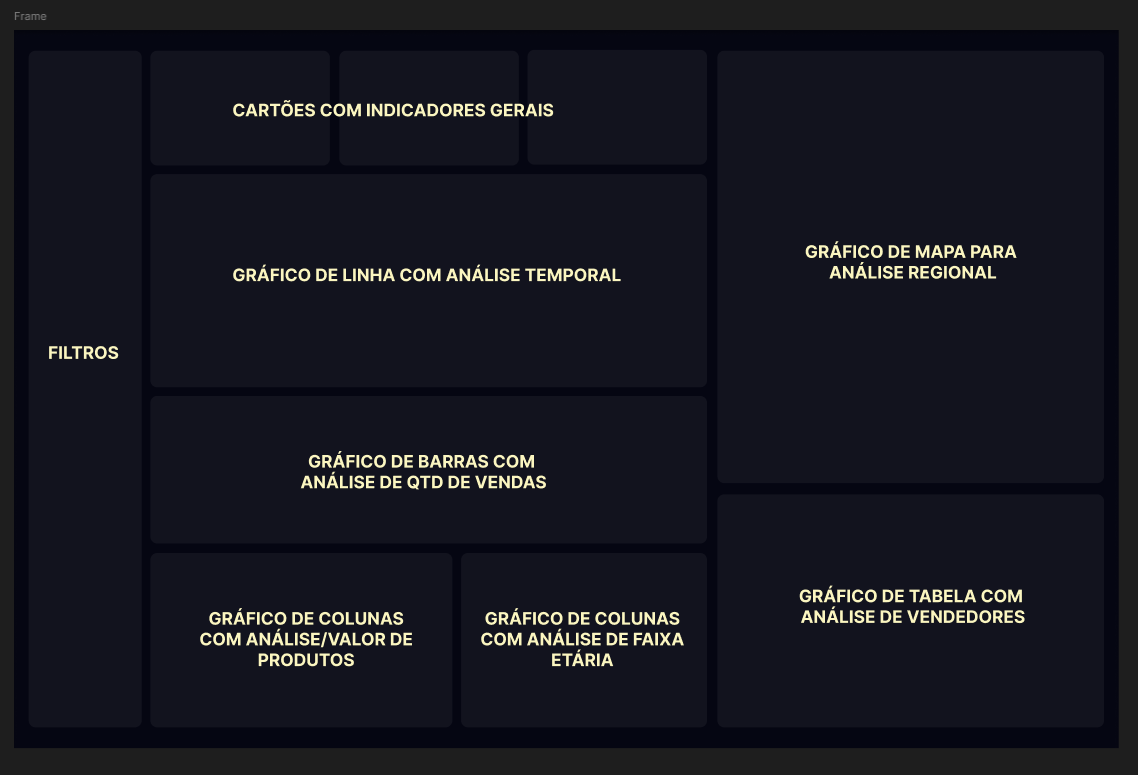

This screenshot's page, from the dashboard's own definition file:
{"tool":"powerbi","page":{"name":"Análise Geral","canvas":[1280,720],"ordinal":0},"visuals":[{"type":"shape","box":[15.8,21.1,130,678.7],"z":0},{"type":"azureMap","fields":{"Size":["_Medidas.Total Vendido"],"Category":["dCliente.estado"]},"box":[820.4,63.1,437.3,386.7],"z":1000},{"type":"barChart","fields":{"Y":["_Medidas.Total Vendido"],"Category":["dProduto.nome_produto"]},"box":[172.5,547.7,326.9,144.9],"z":2000},{"type":"lineChart","title":"Total vendido por mês","fields":{"Y":["_Medidas.Total Vendido","_Medidas.Total Vendido AA2"],"Category":["dCalendário.Mês Abreviado"]},"box":[167.8,177.6,624.8,183],"z":3000},{"type":"tableEx","fields":{"Values":["dVendedor.imagem","dVendedor.nome_vendedor","_Medidas.Total Vendido","_Medidas.Qtd de vendas","_Medidas.Tiket Médio"]},"box":[823.6,487.3,430.2,205.5],"z":4000},{"type":"columnChart","title":"Quantidade de vendas por mês","fields":{"Y":["_Medidas.Qtd de vendas"],"Category":["dCalendário.Mês Abreviado"]},"box":[168.3,404.6,627.4,113.8],"z":5000},{"type":"columnChart","title":"(%) Vendido por faixa etária","fields":{"Category":["fVendas.Categoria_Idade"],"Y":["_Medidas.Total Vendido"]},"box":[525.1,569.9,272.2,122.9],"z":6000},{"type":"slicer","fields":{"Values":["dCalendário.Ano"]},"box":[20.6,203.2,114.6,67.1],"z":7000},{"type":"slicer","fields":{"Values":["dClientes.regiao"]},"box":[799.1,29.3,476.4,32],"z":8000},{"type":"textbox","box":[168.3,374.5,185.8,28.2],"z":9000},{"type":"textbox","box":[531.1,528.1,219.8,28.2],"z":10000},{"type":"textbox","box":[168.1,528.4,168.1,28],"z":11000},{"type":"textbox","box":[163.1,150.1,346.3,28],"z":12000},{"type":"slicer","fields":{"Values":["dProduto.nome_produto"]},"box":[14,432.9,131.7,45.7],"z":13000},{"type":"slicer","fields":{"Values":["dVendedor.nome_vendedor"]},"box":[14,363.5,131.7,44.8],"z":14000},{"type":"slicer","fields":{"Values":["dCalendário.Nome do Mês"]},"box":[14,293.3,131.7,46.5],"z":15000},{"type":"textbox","box":[610,29.1,194.5,107.3],"z":16000},{"type":"textbox","box":[173.6,30,198.2,107.3],"z":17000},{"type":"textbox","box":[392.7,30,197.3,107.3],"z":18000},{"type":"textbox","box":[16.7,79,129.1,49.2],"z":19000},{"type":"textbox","box":[44.8,153.7,53.6,30.7],"z":20000},{"type":"textbox","box":[27.2,179,65.2,30.2],"z":21000},{"type":"textbox","box":[24.7,274.3,97.9,27.3],"z":22000},{"type":"textbox","box":[23.8,343.2,98.8,31.8],"z":23000},{"type":"textbox","box":[23.8,415.5,98.8,28.2],"z":24000},{"type":"textbox","box":[48.3,480.3,87.8,30.7],"z":25000},{"type":"actionButton","box":[18.2,477.3,122.7,33.6],"z":26000},{"type":"card","fields":{"Values":["_Medidas.Ano Selecionado"]},"box":[480,33.6,50,27.3],"z":27000}]}

Visuals, with their boxes on the page's 1280x720 design canvas (x1, y1, x2, y2). These are canvas units, not pixel positions in the 1138x775 screenshot, which may show the page scaled, cropped or inside an application window:
shape: 16, 21, 146, 700
azureMap - _Medidas.Total Vendido x dCliente.estado: 820, 63, 1258, 450
barChart - _Medidas.Total Vendido x dProduto.nome_produto: 172, 548, 499, 693
"Total vendido por mês" lineChart: 168, 178, 793, 361
tableEx - dVendedor.imagem x dVendedor.nome_vendedor: 824, 487, 1254, 693
"Quantidade de vendas por mês" columnChart: 168, 405, 796, 518
"(%) Vendido por faixa etária" columnChart: 525, 570, 797, 693
slicer - dCalendário.Ano: 21, 203, 135, 270
slicer - dClientes.regiao: 799, 29, 1276, 61
textbox: 168, 374, 354, 403
textbox: 531, 528, 751, 556
textbox: 168, 528, 336, 556
textbox: 163, 150, 509, 178
slicer - dProduto.nome_produto: 14, 433, 146, 479
slicer - dVendedor.nome_vendedor: 14, 364, 146, 408
slicer - dCalendário.Nome do Mês: 14, 293, 146, 340
textbox: 610, 29, 804, 136
textbox: 174, 30, 372, 137
textbox: 393, 30, 590, 137
textbox: 17, 79, 146, 128
textbox: 45, 154, 98, 184
textbox: 27, 179, 92, 209
textbox: 25, 274, 123, 302
textbox: 24, 343, 123, 375
textbox: 24, 416, 123, 444
textbox: 48, 480, 136, 511
actionButton: 18, 477, 141, 511
card - _Medidas.Ano Selecionado: 480, 34, 530, 61
